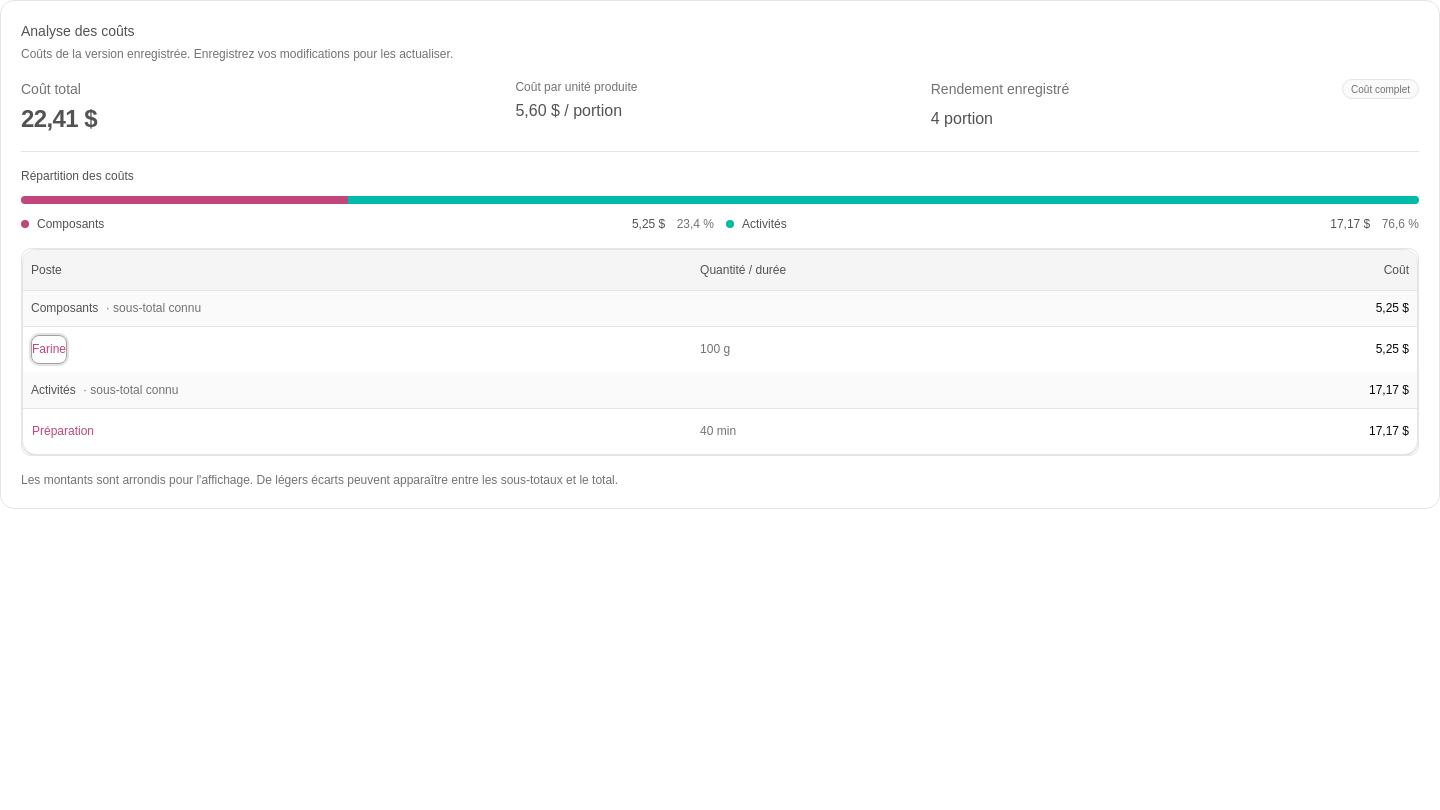
Scenario: BomCostAnalysis › opens and closes provenance by keyboard, preserves all references and restores focus
Press Enter
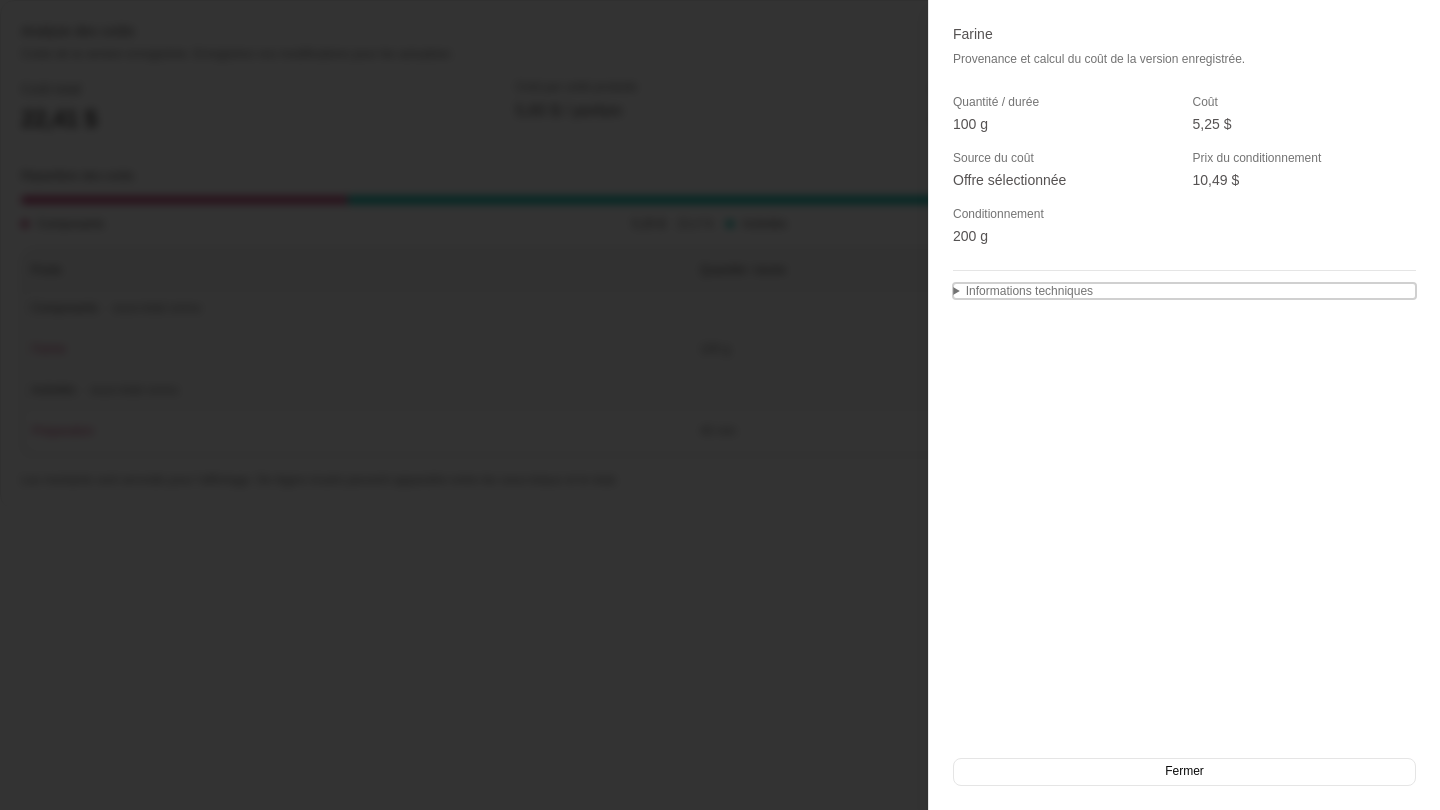
Expected: the text "c3b944dc-1263-4d07-a08e-520eb468ddea" is not shown
Now the text "Offre sélectionnée" is shown, box [953, 172, 1066, 188]
Now the text "200 g" is shown, box [953, 228, 988, 244]
Click the heading "Informations techniques" at (1029, 290), box [966, 284, 1093, 298]
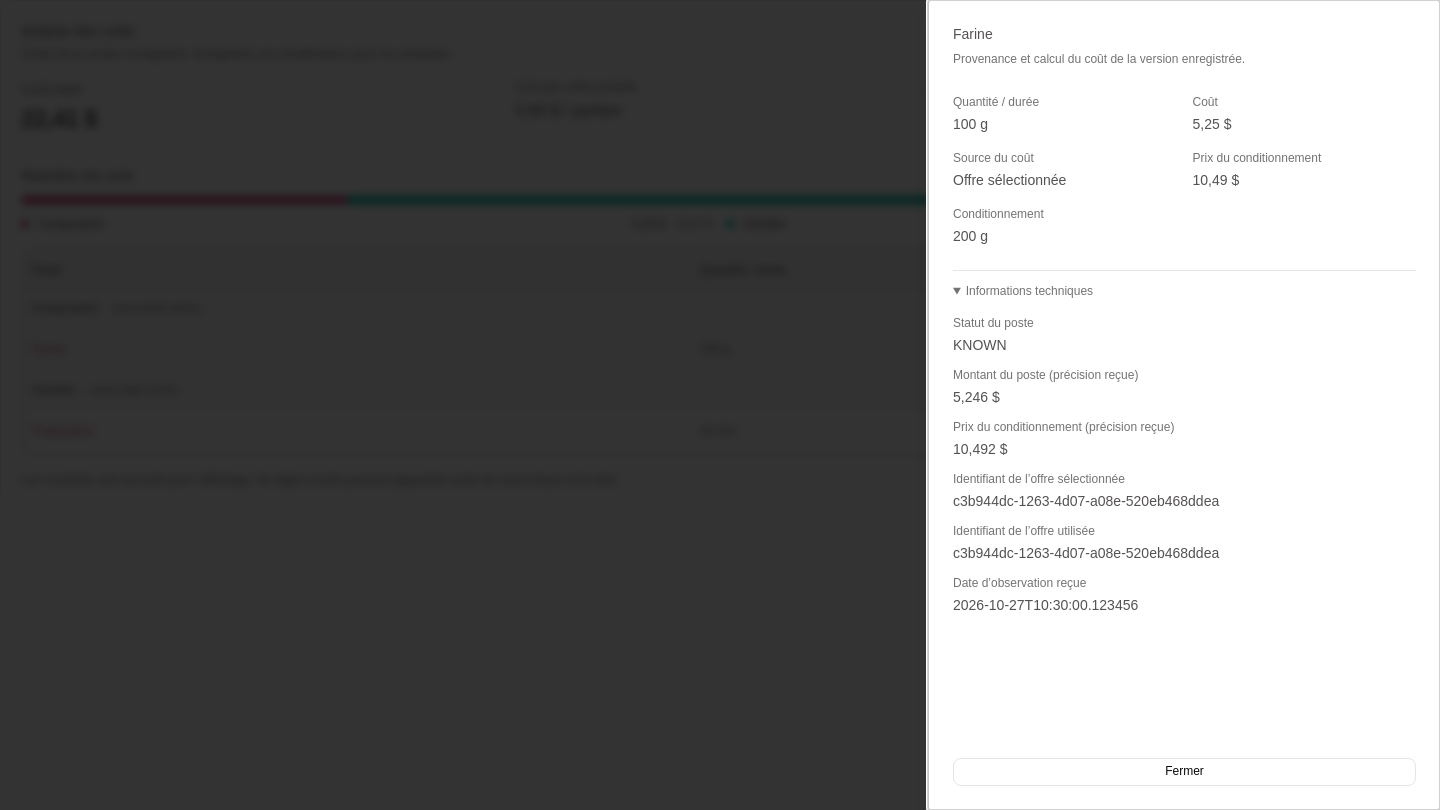
Now the text "c3b944dc-1263-4d07-a08e-520eb468ddea" below "Identifiant de l’offre sélectionnée" is shown, box [953, 492, 1219, 508]
Now the text "2026-10-27T10:30:00.123456" is shown, box [953, 596, 1138, 612]
Now the text "5,246 $" is shown, box [953, 388, 1000, 404]
Press Escape
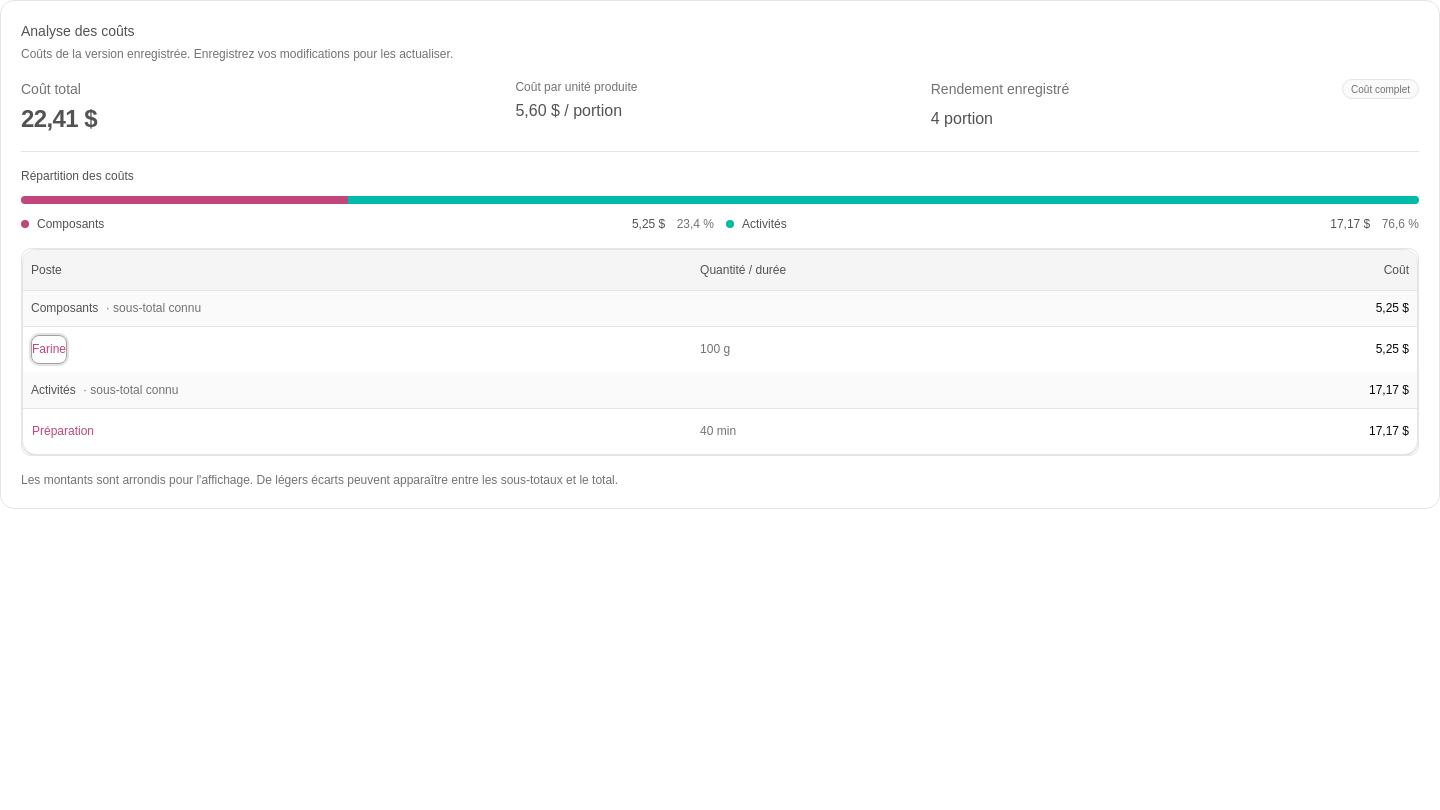
Now the dialog is gone
Now the button with aria-label "Détails du poste : Farine" is collapsed, box [31, 334, 67, 364]
